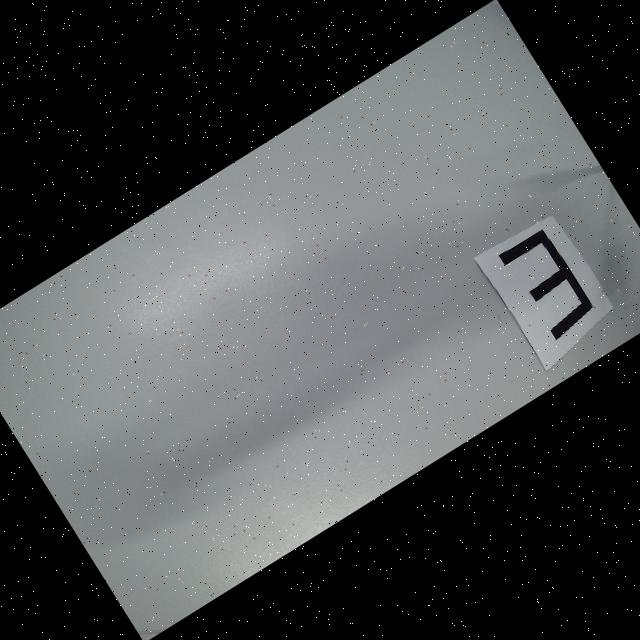FAKE: (498, 226, 598, 342)
